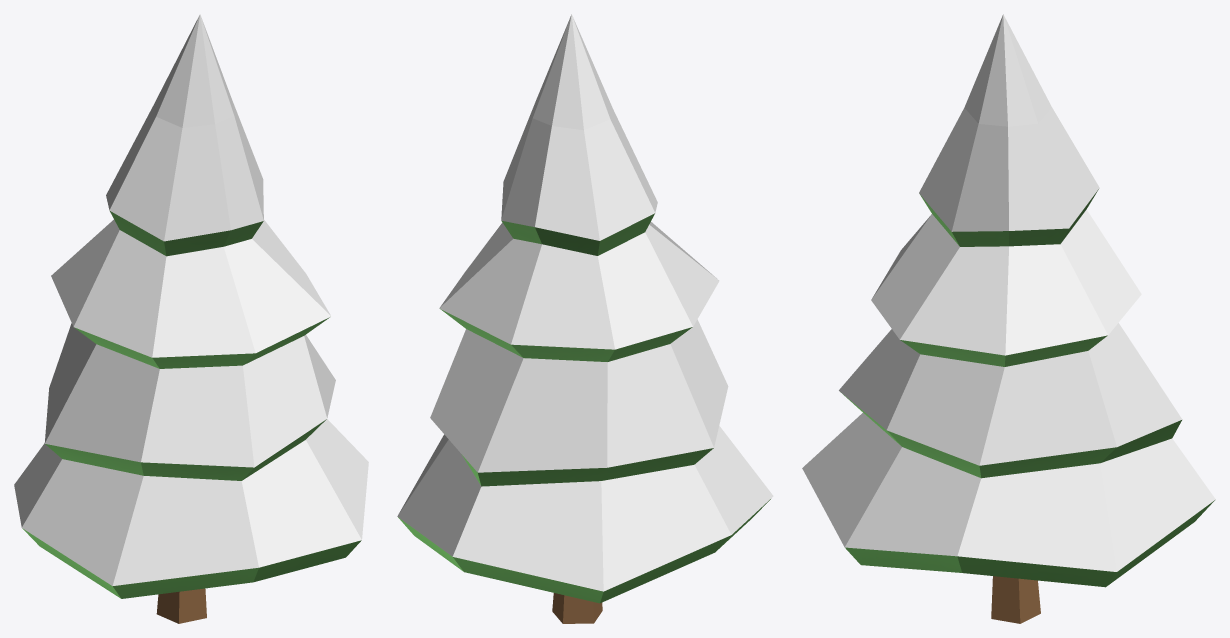
File: Fir_Tree_m_Snow_BT_04.fbx
3 renders of one model, left to right at view 1: azimuth 30°, elevation 25°; view 2: azimuth 150°, elevation 25°; view 3: azimuth 270°, elevation 25°, orthographic.
Parts seen in each view (by area): view 1: Fir_Tree_m_Snow_BT_04; view 2: Fir_Tree_m_Snow_BT_04; view 3: Fir_Tree_m_Snow_BT_04.
Part boxes in pixels (x1,y1,x2,y2): Fir_Tree_m_Snow_BT_04: (14,14,368,623); Fir_Tree_m_Snow_BT_04: (397,14,773,623); Fir_Tree_m_Snow_BT_04: (802,14,1215,623).
Bounding box in the file's own units: 373 × 677 × 420.
